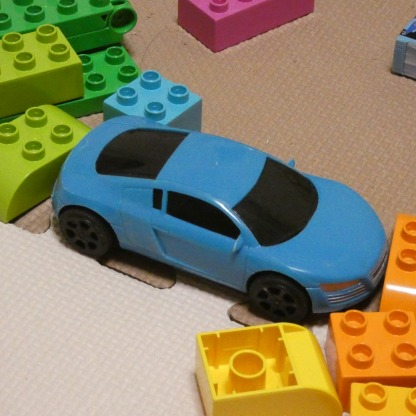car: (54, 114, 392, 326)
